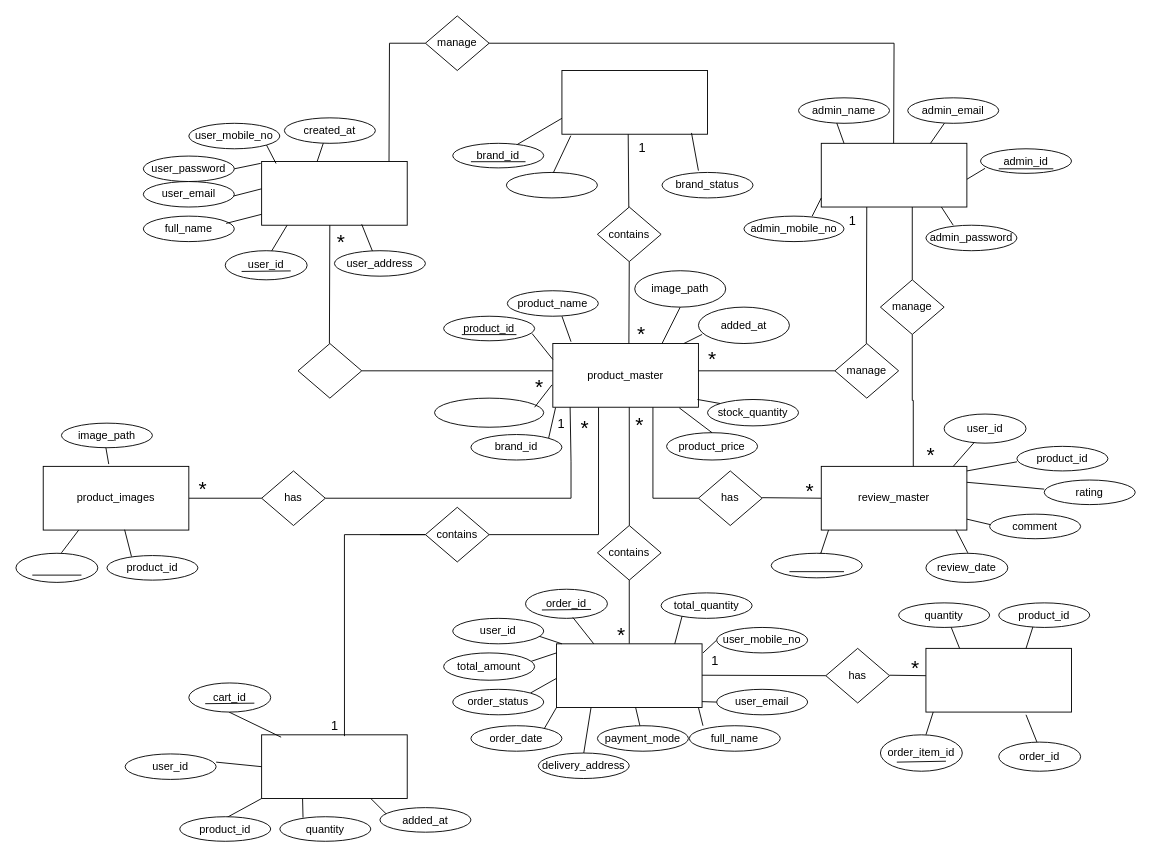
This 1151x857 diagram has some shape labels left out. Here are the shapes that lost their labels. From the top down, the centre of each, then its label:
At point (634, 102): "brand_master".
At point (334, 193): "user_master".
At point (551, 185): "brand_name".
At point (893, 174): "admin_master".
At point (329, 370): "view".
At point (489, 412): "product_description".
At point (56, 567): "image_id".
At point (816, 565): "review_id".
At point (629, 675): "order_master".
At point (998, 679): "order_items".
At point (334, 766): "cart_master".
